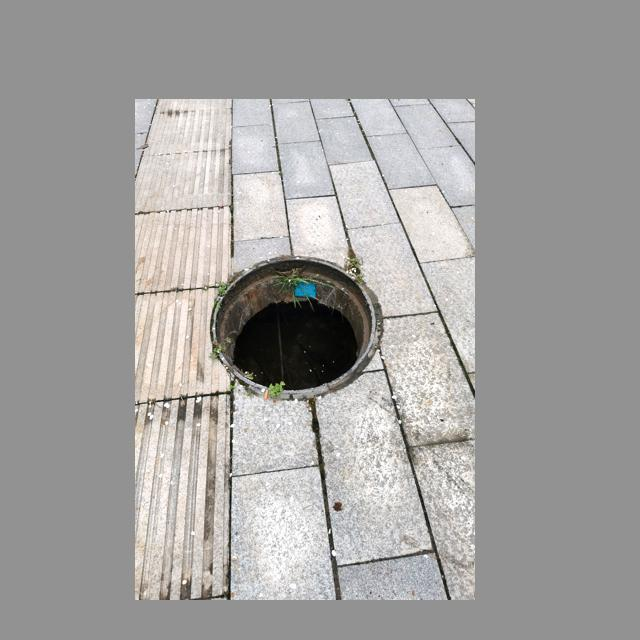lose: (212, 254, 377, 398)
